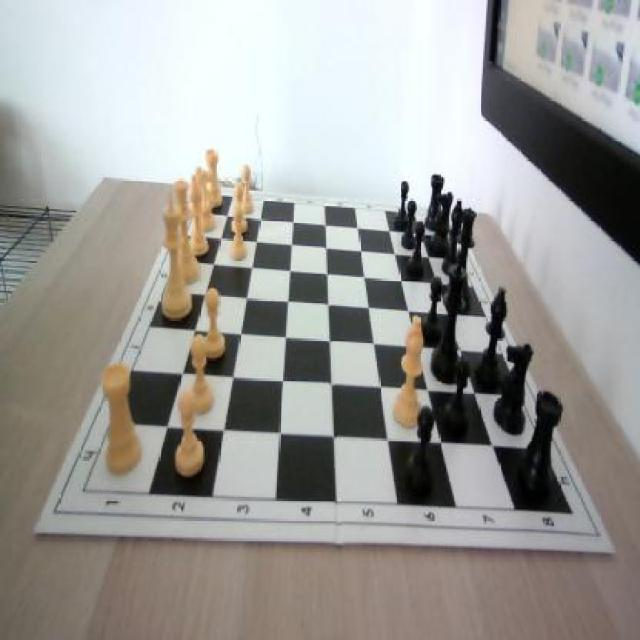bishop: (475, 286, 508, 385), (443, 197, 465, 274)
black-bishop: (430, 260, 466, 383)
black-king: (492, 343, 534, 435), (429, 189, 455, 253)
black-knight: (406, 406, 436, 494), (443, 354, 469, 439), (420, 274, 443, 344), (408, 223, 424, 279), (394, 182, 410, 233), (402, 200, 418, 248)
black-pawn: (446, 208, 477, 308)
black-queen: (518, 390, 562, 504), (424, 174, 444, 231)
black-rook: (392, 315, 424, 430), (188, 175, 209, 254)
white-bishop: (160, 188, 191, 317)
white-king: (192, 164, 216, 234)
white-knight: (172, 391, 205, 480), (190, 335, 218, 418), (200, 286, 226, 358), (230, 204, 248, 260), (232, 182, 247, 234), (240, 163, 253, 213)
white-pawn: (174, 182, 201, 286)
white-queen: (100, 363, 141, 475), (205, 149, 223, 209)
